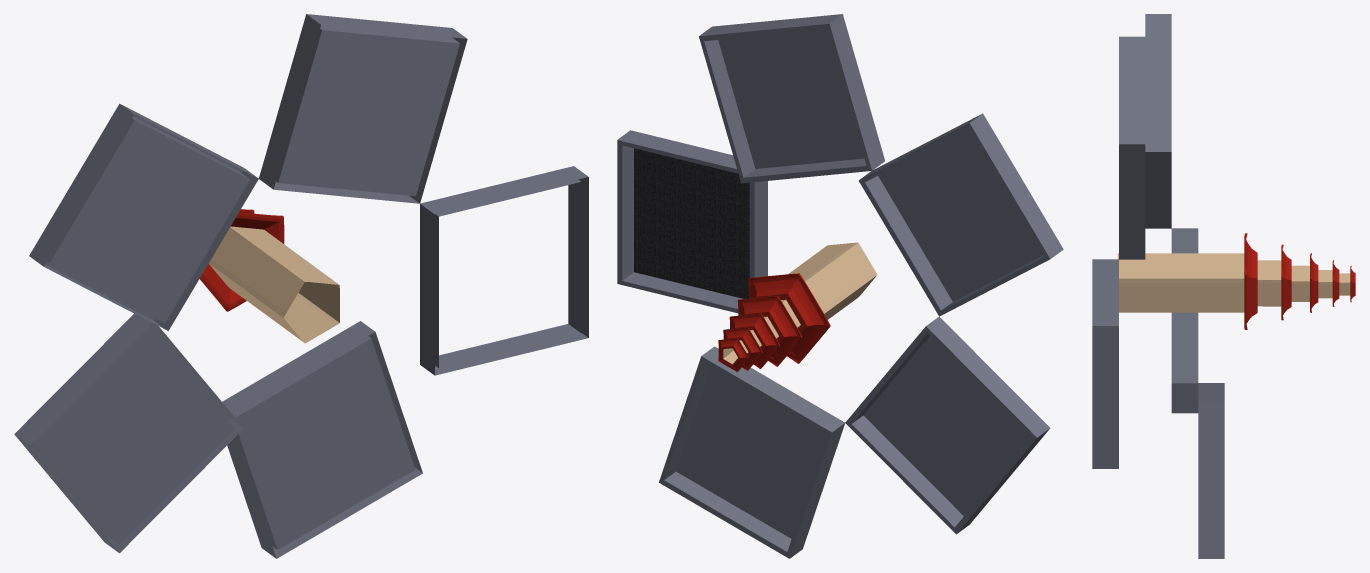
Rendered from tower.dae.
3 renders of one model, left to right at view 1: azimuth 30°, elevation 25°; view 2: azimuth 150°, elevation 25°; view 3: azimuth 270°, elevation 25°, orthographic. The views are drawn at different scales.
Parts seen in each view (by area): view 1: Cube_014, Cube_019, Cube_024, Cube_029, Plane_008, Cube_017, Cube_021, Cube_013, Cube_028, Cube_006, Cube_007, Cube_005 (+13 smaller); view 2: Cube_019, Cube_024, Cube_014, Cube_029, Cube_009, Plane_008, Cube_017, Cube_021, Cube_013, Cube_015, Cube_023, Cube_028 (+14 smaller); view 3: Plane_008, Cube_027, Cube_006, Cube_018, Cube_011, Cube_012, Cube_022, Cube_015, Cube_008, Cube_023, Cube_028.
Boxes of the visible parts, <box> form: Cube_014: <box>278,30,459,196</box>; Cube_019: <box>49,120,249,322</box>; Cube_024: <box>35,327,234,543</box>; Cube_029: <box>235,338,415,549</box>; Plane_008: <box>199,209,339,343</box>; Cube_017: <box>29,103,134,266</box>; Cube_021: <box>14,313,150,444</box>; Cube_013: <box>258,14,321,189</box>; Cube_028: <box>222,321,374,417</box>; Cube_006: <box>568,177,588,337</box>; Cube_007: <box>420,204,438,375</box>; Cube_005: <box>435,324,588,375</box>; Cube_019: <box>878,129,1042,301</box>; Cube_024: <box>863,336,1030,515</box>; Cube_014: <box>718,29,864,168</box>; Cube_029: <box>676,367,826,538</box>; Cube_009: <box>634,148,749,298</box>; Plane_008: <box>718,242,877,372</box>; Cube_017: <box>968,113,1063,259</box>; Cube_021: <box>926,316,1049,437</box>; Cube_013: <box>827,14,884,170</box>; Cube_015: <box>859,176,952,315</box>; Cube_023: <box>845,415,963,533</box>; Cube_028: <box>701,346,844,434</box>; Plane_008: <box>1117,233,1355,329</box>; Cube_027: <box>1198,402,1224,558</box>; Cube_006: <box>1092,326,1118,468</box>; Cube_018: <box>1145,14,1171,151</box>; Cube_011: <box>1119,144,1145,259</box>; Cube_012: <box>1119,36,1145,144</box>; Cube_022: <box>1171,228,1198,383</box>; Cube_015: <box>1145,152,1171,228</box>; Cube_008: <box>1092,259,1118,325</box>; Cube_023: <box>1171,383,1198,413</box>; Cube_028: <box>1198,383,1224,402</box>.
Bounding box in the file's own units: 28.28 × 14.09 × 29.74.
4 materials, 1 textured.
